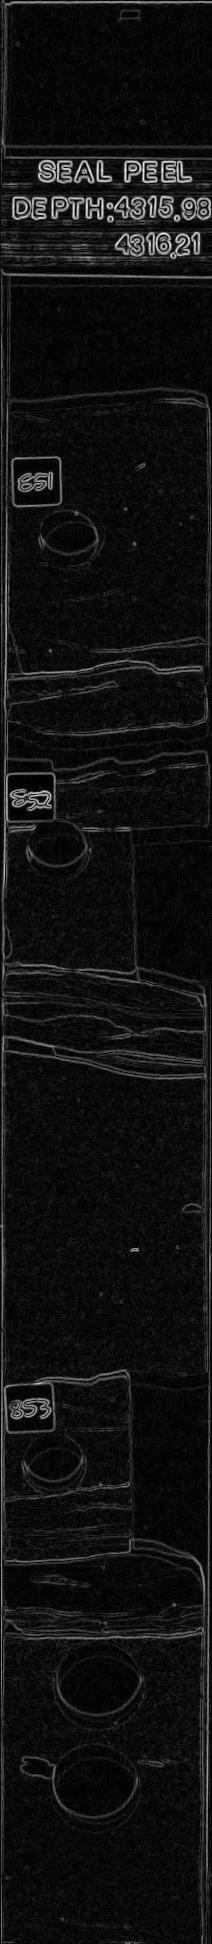hplug: (17, 1425, 93, 1499), (35, 498, 107, 572), (25, 813, 95, 879)
scal: (47, 1741, 152, 1837), (50, 1639, 151, 1733)
vplug: (117, 1359, 207, 1553), (121, 811, 205, 977)
